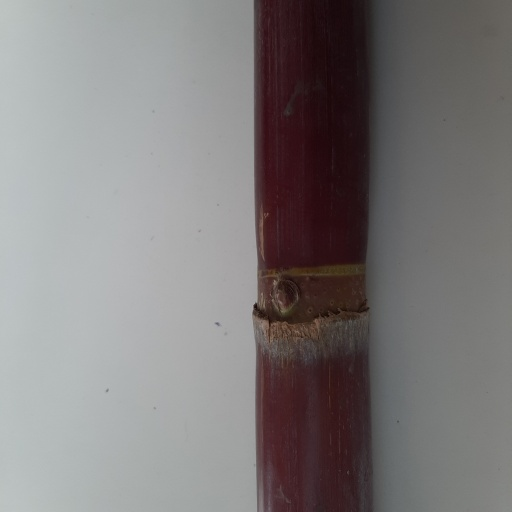Bud: (271, 277, 299, 316)
